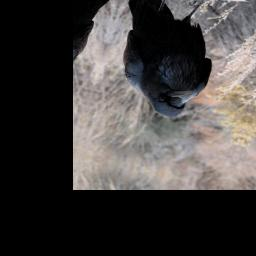Crow: (96, 0, 236, 125)
